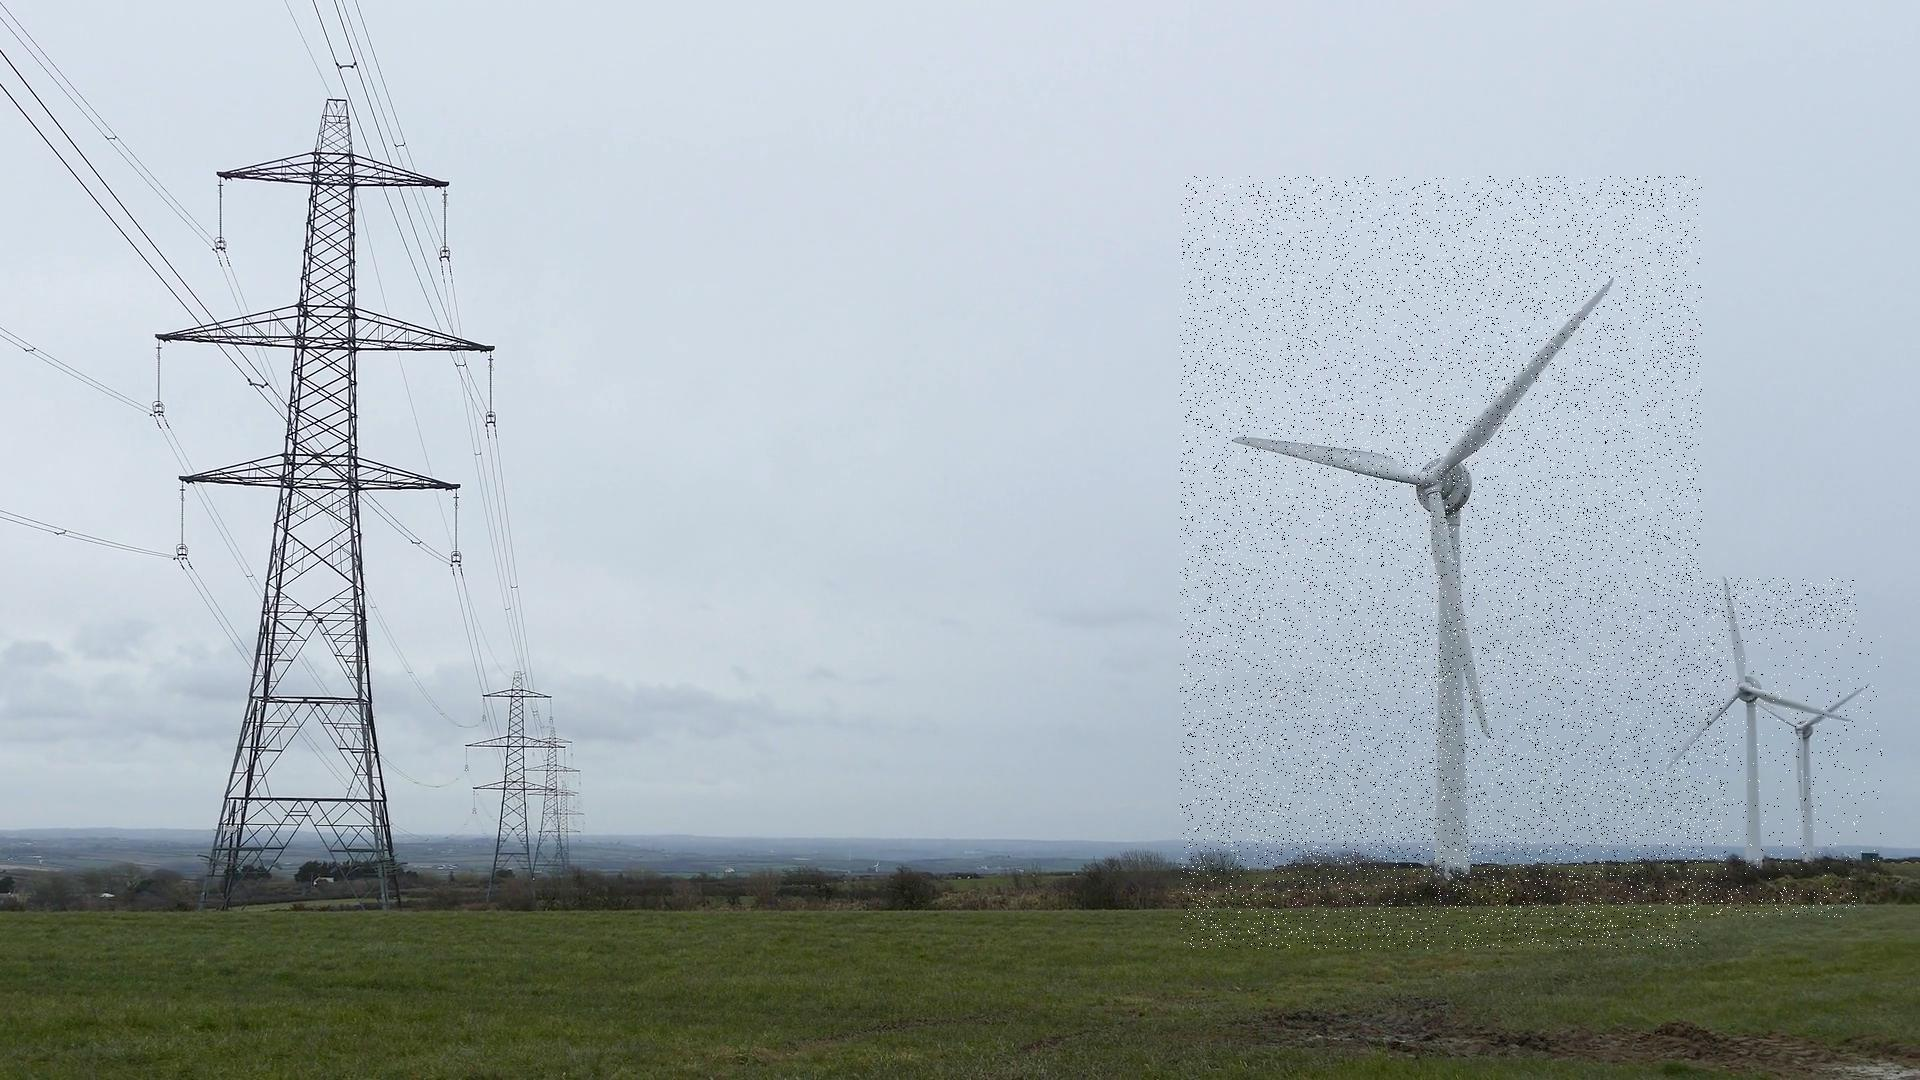cable tower: (150, 94, 497, 915), (463, 671, 562, 909), (524, 727, 578, 880), (543, 781, 584, 866)
turbine: (1180, 175, 1702, 949), (1627, 579, 1857, 918), (1727, 633, 1883, 887)
